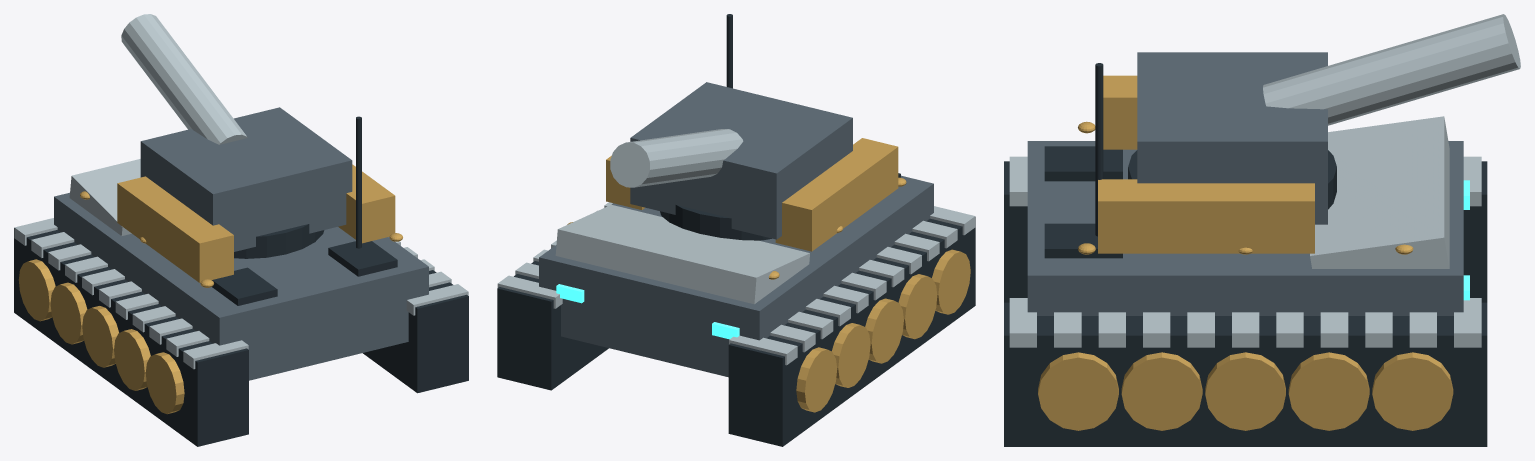
Rendered from fortress-tank.glb.
3 renders of one model, left to right at view 1: azimuth 30°, elevation 25°; view 2: azimuth 150°, elevation 25°; view 3: azimuth 270°, elevation 25°, orthographic. The views are drawn at different scales.
Visible parts, largest first — view 1: armored lower hull, turret upper armor, carbon continuous track, advanced powerpack, howitzer, carbon continuous track.001, sloped glacis, advanced powerpack.001, track road wheel, track road wheel.004, track road wheel.003, track road wheel.002 (+17 smaller); view 2: armored lower hull, turret upper armor, sloped glacis, carbon continuous track, advanced powerpack, carbon continuous track.001, howitzer, track road wheel.004, track road wheel, track road wheel.003, track road wheel.001, track road wheel.002 (+15 smaller); view 3: armored lower hull, carbon continuous track.001, turret upper armor, sloped glacis, advanced powerpack.001, howitzer, track road wheel.008, track road wheel.006, track road wheel.009, track road wheel.007, track road wheel.005, carbon continuous track (+18 smaller).
Part boxes in pixels (x1,y1,x2,y2): armored lower hull: (54,192,428,380); turret upper armor: (140,107,352,251); carbon continuous track: (14,228,248,446); advanced powerpack: (117,176,233,282); howitzer: (121,14,247,144); carbon continuous track.001: (363,270,468,393); sloped glacis: (69,159,140,235); advanced powerpack.001: (338,164,395,243); track road wheel: (145,352,184,414); track road wheel.004: (18,259,55,321); track road wheel.003: (50,282,87,344); track road wheel.002: (82,306,118,367); armored lower hull: (539,175,933,377); turret upper armor: (630,82,852,239); sloped glacis: (555,204,809,304); carbon continuous track: (728,217,975,446); advanced powerpack: (775,138,898,251); carbon continuous track.001: (497,261,608,390); howitzer: (610,129,743,187); track road wheel.004: (796,347,837,412); track road wheel: (932,249,970,314); track road wheel.003: (831,323,870,387); track road wheel.001: (898,274,937,339); track road wheel.002: (865,298,903,363); armored lower hull: (1027,141,1463,315); carbon continuous track.001: (1004,302,1487,446); turret upper armor: (1137,52,1327,224); sloped glacis: (1310,116,1449,268); advanced powerpack.001: (1098,179,1314,253); howitzer: (1263,14,1520,125); track road wheel.008: (1288,352,1369,430); track road wheel.006: (1121,352,1202,430); track road wheel.009: (1372,352,1453,430); track road wheel.007: (1205,352,1285,430); track road wheel.005: (1038,352,1118,430); carbon continuous track: (1004,161,1487,302).
Bounding box in the file's own units: 1.68 × 1.45 × 1.98.
